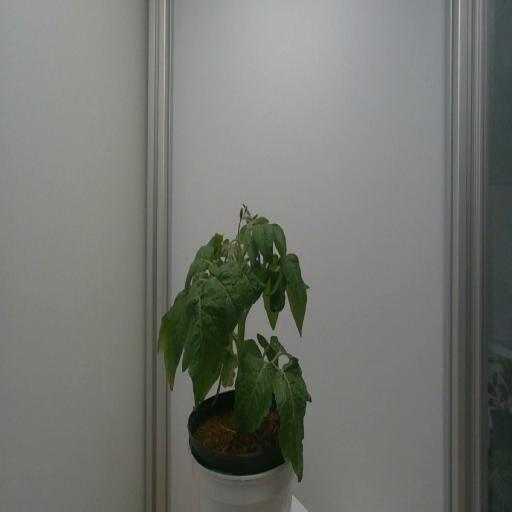Tomato-Leaves-Cupboard-: (180, 286, 230, 412), (270, 365, 309, 488), (237, 347, 279, 438), (153, 279, 185, 397), (217, 259, 254, 319), (287, 270, 311, 338), (236, 258, 268, 305), (261, 258, 281, 325), (252, 328, 285, 368), (284, 247, 312, 294), (285, 361, 313, 404), (254, 224, 279, 270), (188, 238, 212, 277), (269, 264, 288, 311), (275, 225, 293, 271), (271, 335, 298, 361), (221, 349, 236, 390), (248, 233, 263, 269), (238, 219, 254, 247), (210, 232, 223, 253), (224, 236, 230, 249)
